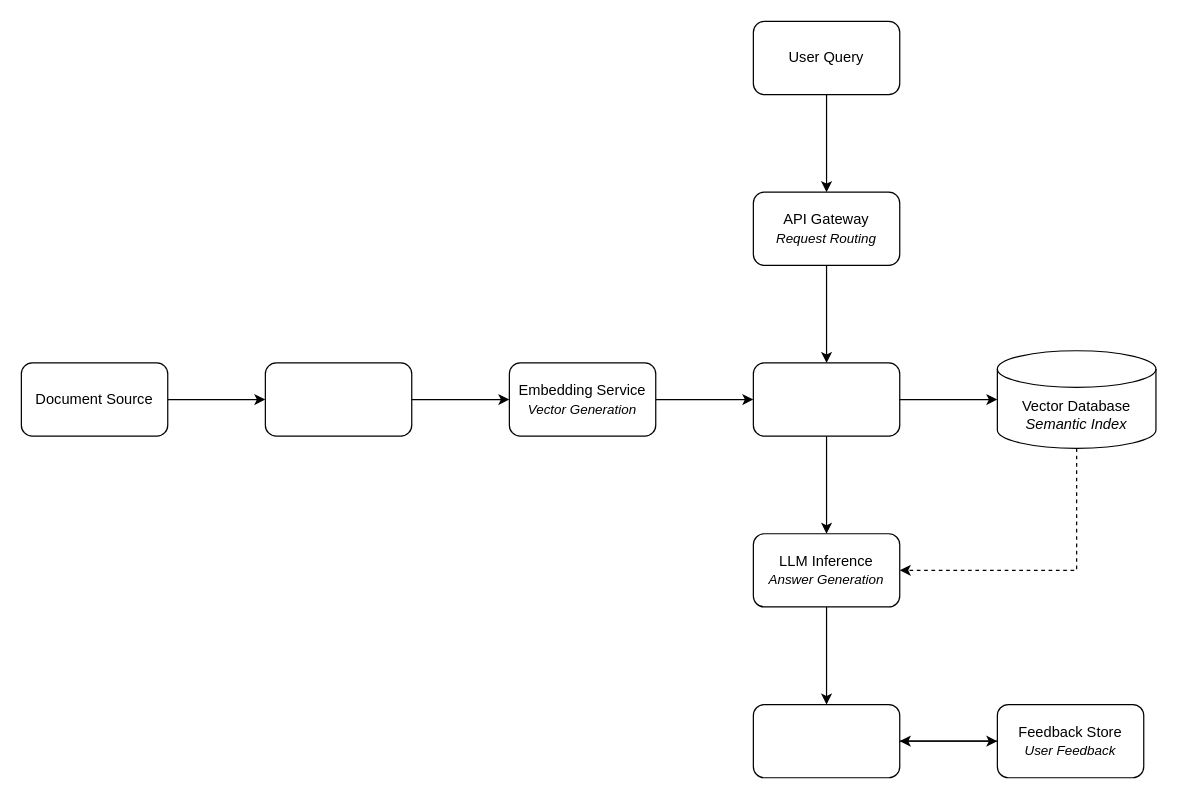
Some shapes in this 1177 by 799 pixel diagram are drawn without their labels. The centre of each missing label's shape, as x and y in pixels:
"Document Ingestion Parsing & Chunking" belongs at pixel 338 399.
"Response Returned to User" belongs at pixel 826 740.
"Retriever & Context Builder Semantic Search" belongs at pixel 826 399.
